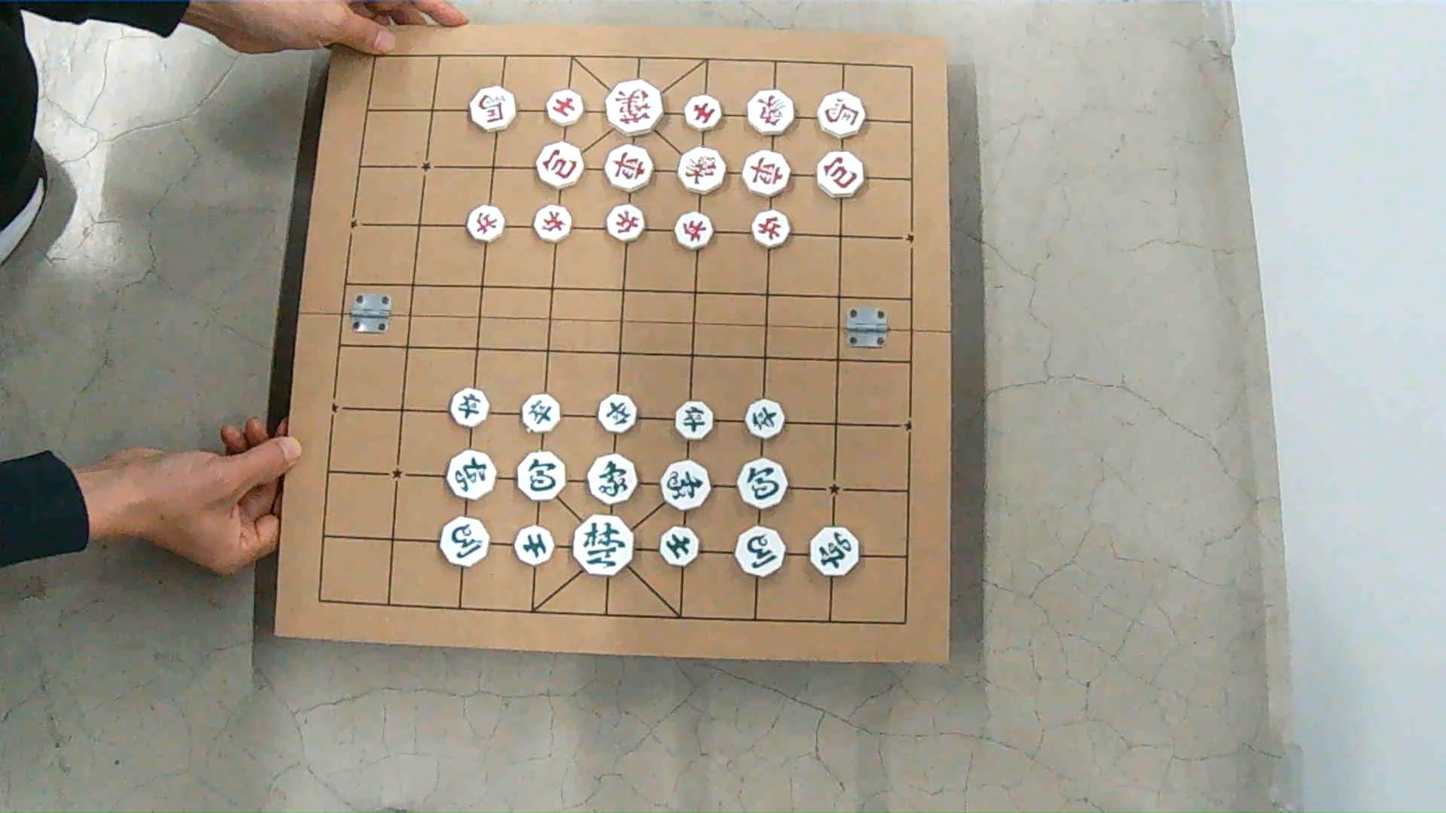cha_green: (810, 526, 859, 575), (447, 450, 495, 500)
cha_red: (606, 145, 651, 191), (743, 151, 789, 196)
jol_green: (450, 387, 488, 428), (521, 394, 560, 433), (746, 399, 784, 439), (598, 394, 636, 433), (676, 401, 712, 440)
jol_red: (752, 210, 790, 248), (466, 205, 503, 242), (607, 205, 644, 242), (535, 205, 571, 242), (676, 212, 712, 249)
ma_green: (735, 527, 784, 577), (440, 517, 487, 566)
ma_red: (818, 92, 864, 138), (469, 87, 515, 131)
po_green: (738, 458, 787, 509), (517, 451, 565, 501)
po_red: (535, 142, 583, 188), (817, 152, 863, 196)
sa_green: (514, 525, 553, 565), (660, 527, 698, 566)
sa_red: (546, 90, 583, 126), (684, 95, 721, 131)
sang_green: (661, 460, 710, 510), (588, 454, 636, 504)
sang_red: (678, 147, 725, 193), (747, 90, 793, 135)
wang_green: (573, 514, 633, 576)
wang_red: (606, 80, 663, 135)
